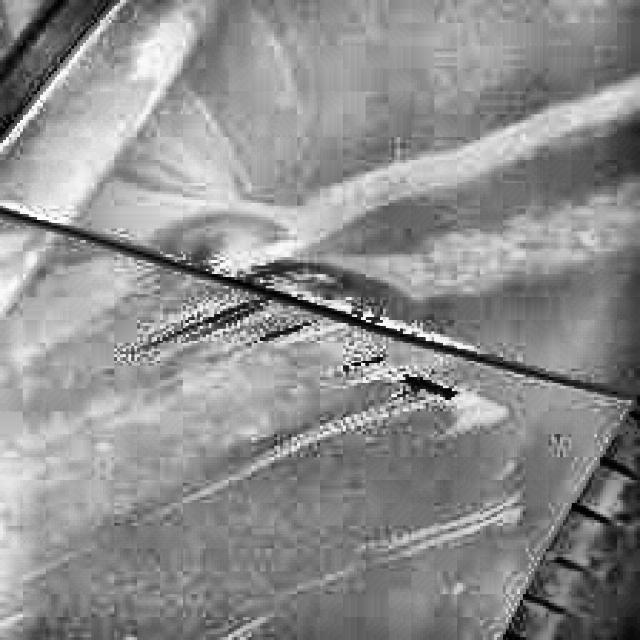bumper_scratch: (139, 262, 509, 440)
